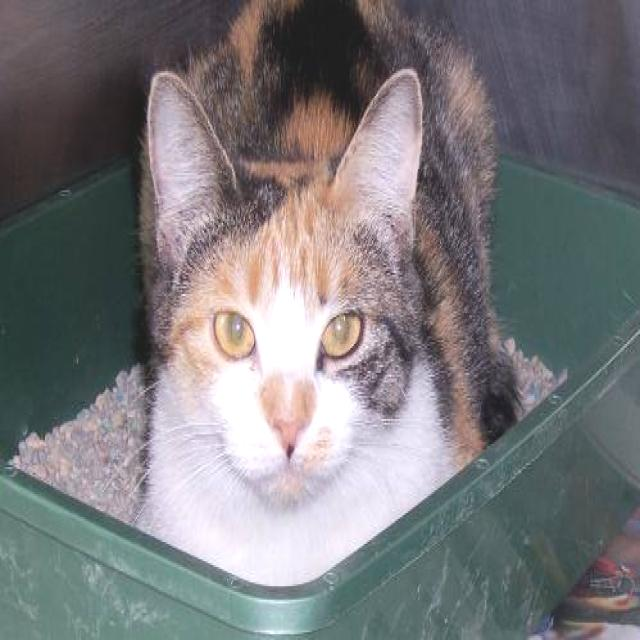Kucing: (104, 51, 521, 518)
